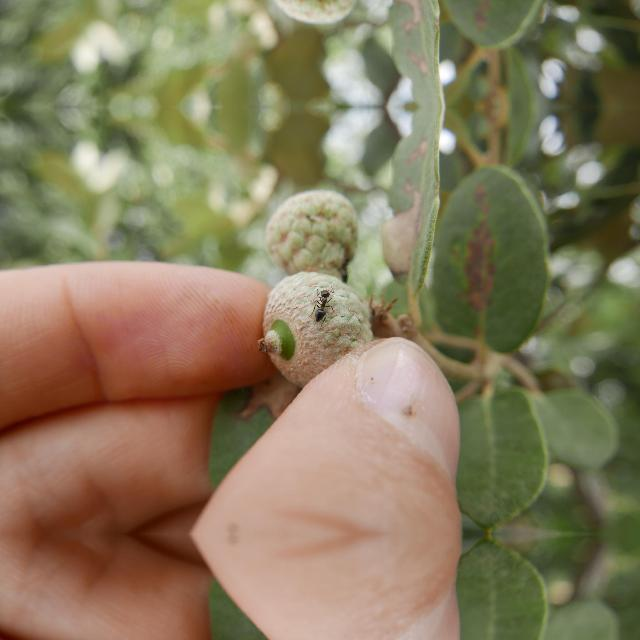Crematogaster: (308, 286, 336, 324)
